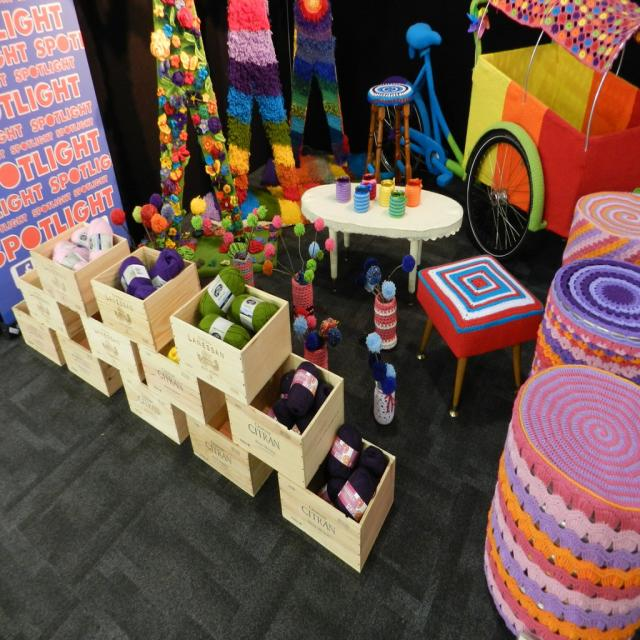Box: (283, 412, 404, 562), (223, 350, 346, 488), (166, 276, 293, 403), (91, 242, 206, 352), (26, 216, 130, 317), (185, 399, 277, 501), (136, 336, 227, 430), (50, 309, 127, 399), (118, 366, 192, 443), (12, 264, 86, 337), (8, 294, 68, 374), (83, 302, 143, 382)
